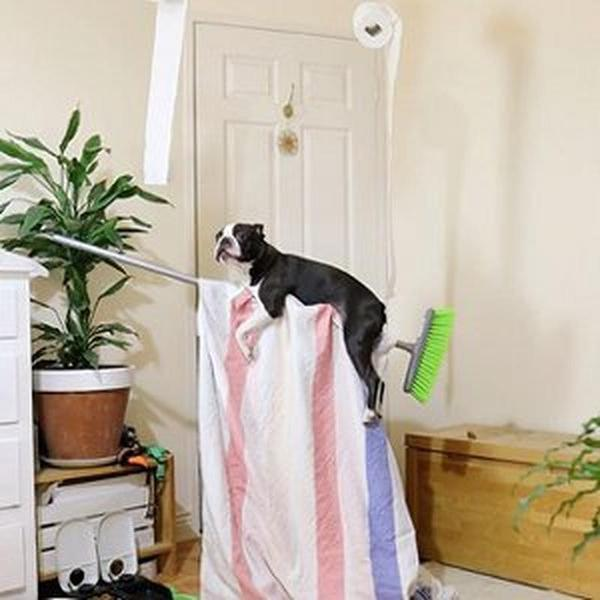allqu: (209, 213, 399, 430)
